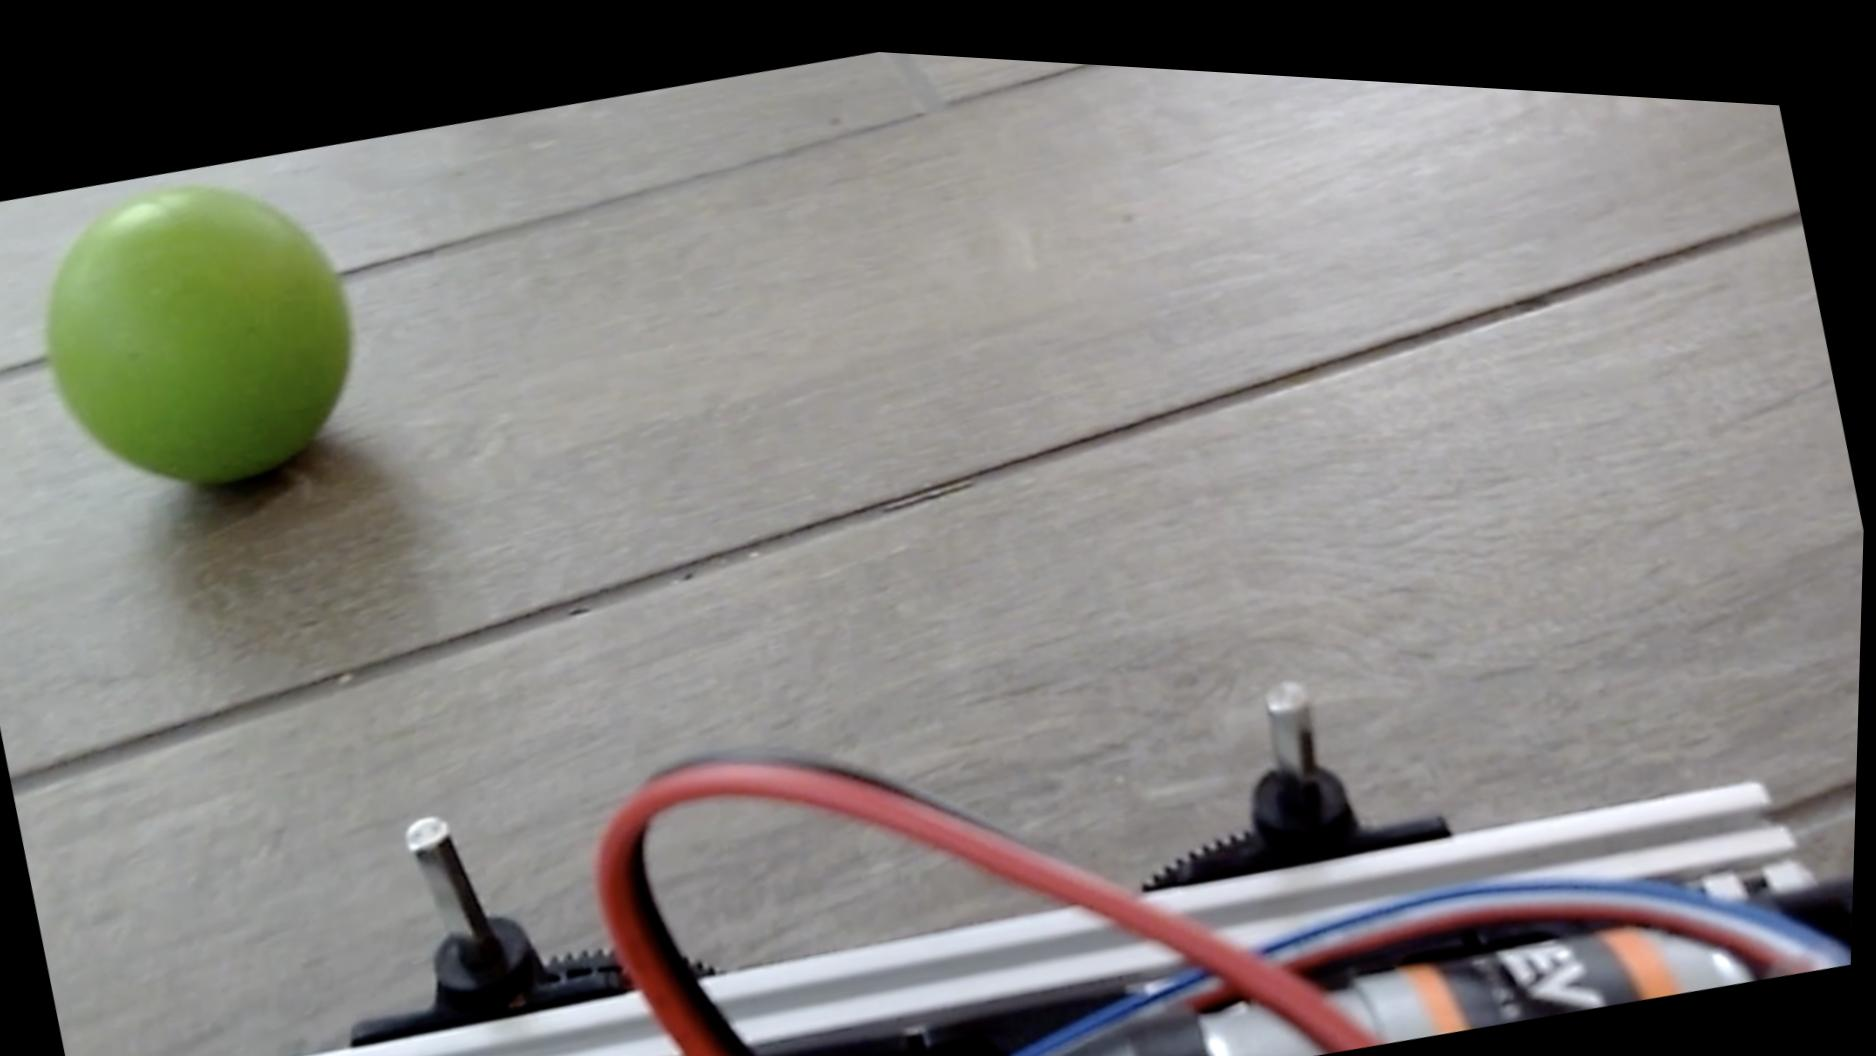greenball: (10, 140, 392, 525)
